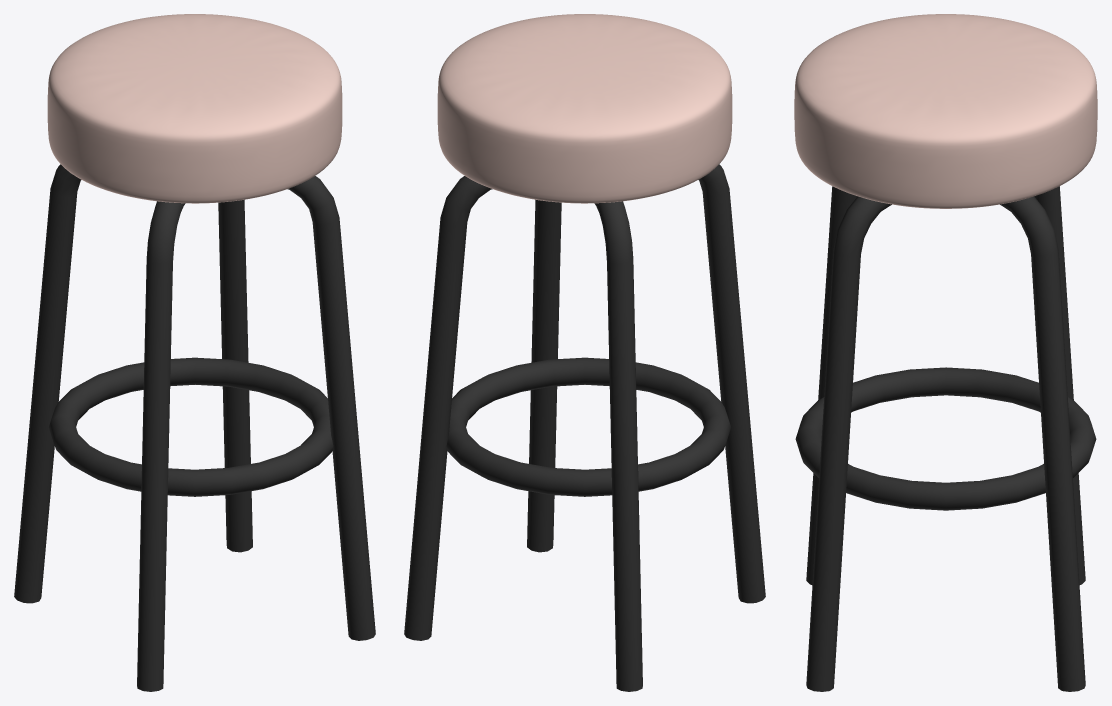
The model's file is stall_white_chair_1.glb.
3 views of the same model, side by side, from view 1: azimuth 30°, elevation 25°; view 2: azimuth 150°, elevation 25°; view 3: azimuth 270°, elevation 25° (orthographic). The views are drawn at different scales.
Visible parts, largest first — view 1: Chair, Vert.002, Circle.001; view 2: Chair, Vert.002, Circle.001; view 3: Chair, Vert.002, Circle.001.
Boxes of the visible parts, left/top/right/bottom form: Chair: left=47, top=14, right=342, bottom=203; Vert.002: left=14, top=164, right=375, bottom=691; Circle.001: left=49, top=357, right=333, bottom=496; Chair: left=437, top=14, right=732, bottom=203; Vert.002: left=404, top=164, right=765, bottom=691; Circle.001: left=446, top=357, right=730, bottom=496; Chair: left=794, top=14, right=1097, bottom=208; Vert.002: left=806, top=186, right=1085, bottom=691; Circle.001: left=795, top=367, right=1096, bottom=510.
Size of the model in its own units: 0.7984 by 1.66 by 0.7984.
